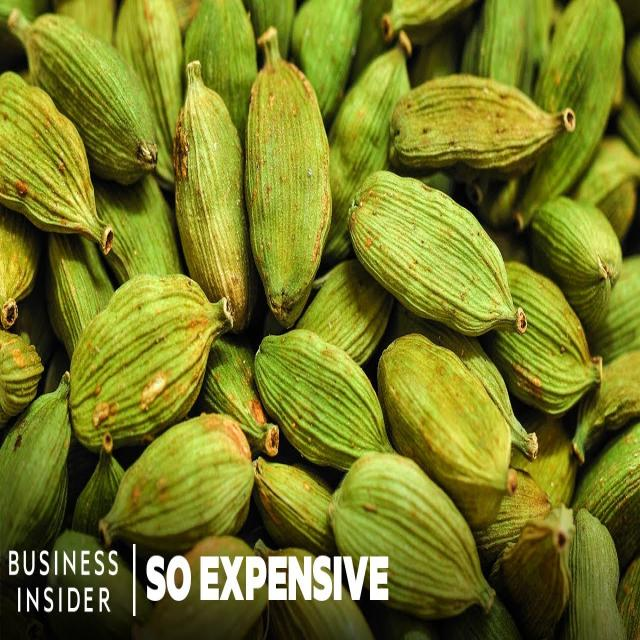Cardamom: (0, 0, 640, 540)
